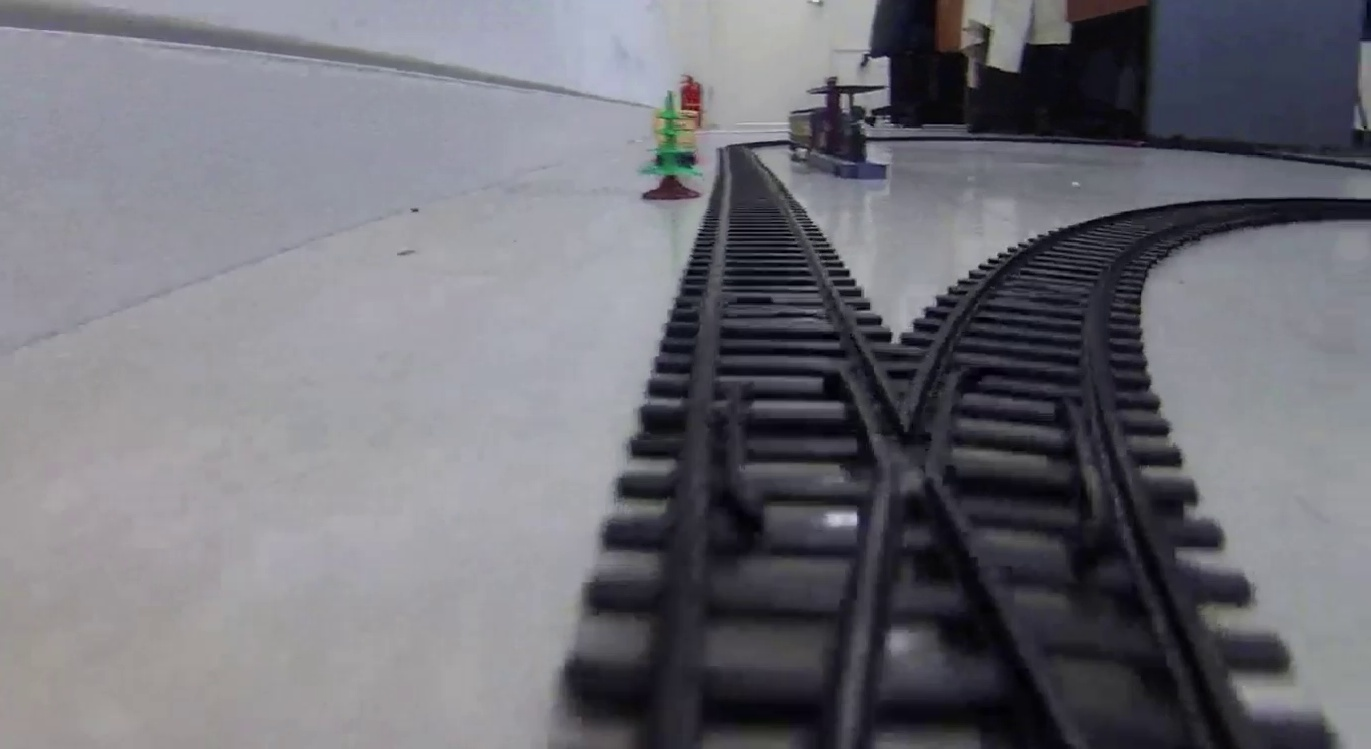tree: (638, 94, 701, 197)
